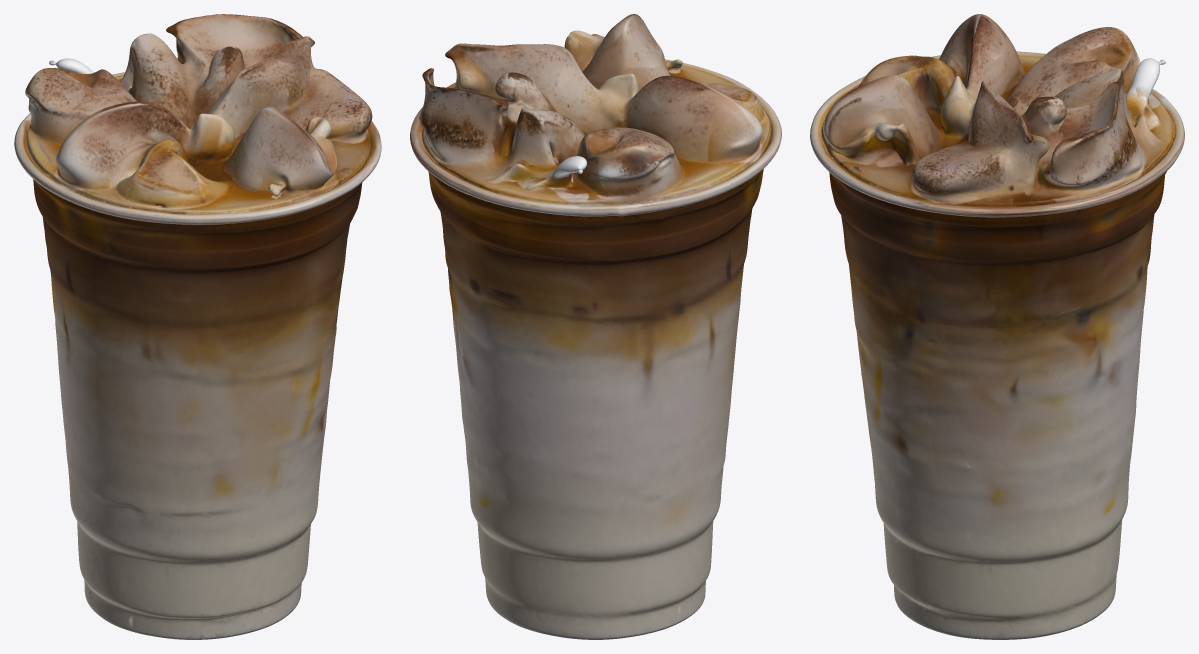
The model's file is coffee.glb.
3 views of the same model, side by side, from view 1: azimuth 30°, elevation 25°; view 2: azimuth 150°, elevation 25°; view 3: azimuth 270°, elevation 25° (orthographic). The views are drawn at different scales.
Parts seen in each view (by area): view 1: tripo_node_2f3fe49f-fcbc-40cd-84de-33848e812538; view 2: tripo_node_2f3fe49f-fcbc-40cd-84de-33848e812538; view 3: tripo_node_2f3fe49f-fcbc-40cd-84de-33848e812538.
Boxes of the visible parts, left/top/right/bottom form: tripo_node_2f3fe49f-fcbc-40cd-84de-33848e812538: left=14, top=14, right=381, bottom=639; tripo_node_2f3fe49f-fcbc-40cd-84de-33848e812538: left=410, top=14, right=781, bottom=639; tripo_node_2f3fe49f-fcbc-40cd-84de-33848e812538: left=810, top=14, right=1184, bottom=639.
Bounding box in the file's own units: 0.6314 × 1 × 0.6334.
1 material, 1 textured.
